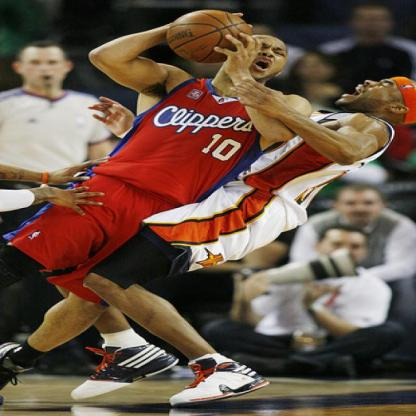basketball: (162, 8, 254, 64)
